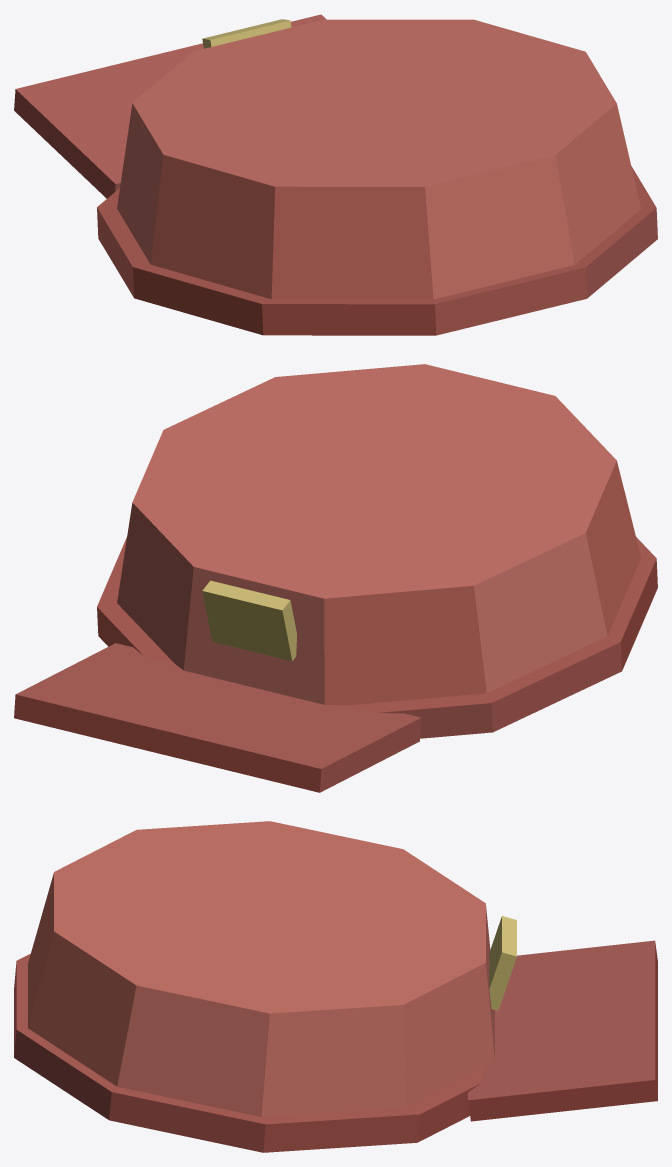
Rendered from hat_cap.glb.
The picture shows the model from 3 angles, top to bottom: view 1: azimuth 30°, elevation 25°; view 2: azimuth 150°, elevation 25°; view 3: azimuth 270°, elevation 25°; orthographic projection. The views are drawn at different scales.
Parts seen in each view (by area): view 1: hat_cap2; view 2: hat_cap2; view 3: hat_cap2.
Boxes of the visible parts, x1,y1,x2,y2 form: hat_cap2: [14, 14, 657, 335]; hat_cap2: [14, 364, 657, 792]; hat_cap2: [14, 821, 657, 1152].
Size of the model in its own units: 0.67 by 0.2222 by 0.8201.
